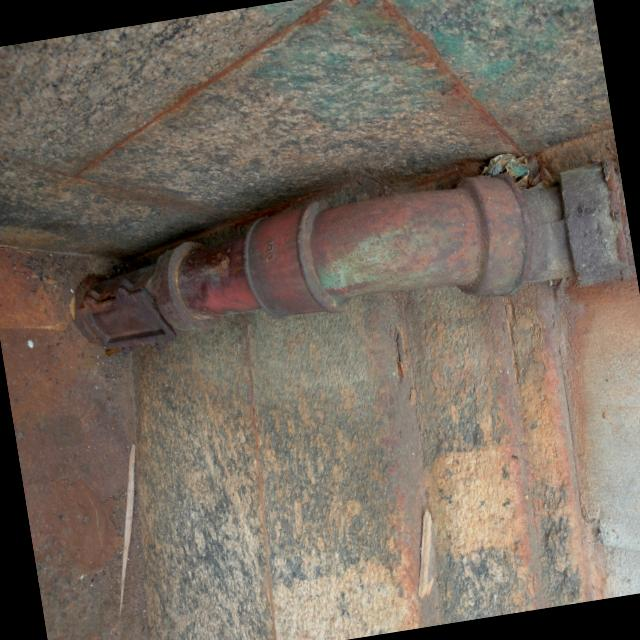gas: (60, 139, 632, 372)
